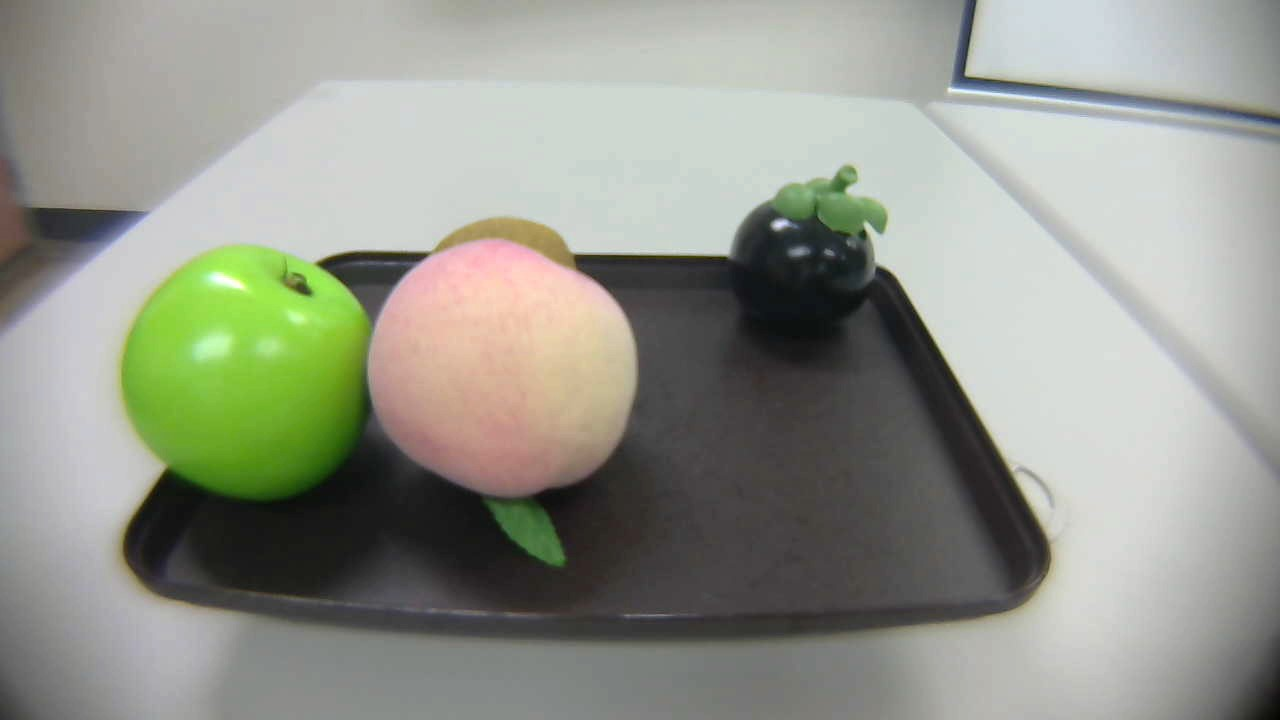green apple: (115, 243, 383, 504)
kiwi fruit: (415, 214, 583, 265)
mangosteen: (709, 152, 904, 352)
peach: (367, 224, 640, 569)
